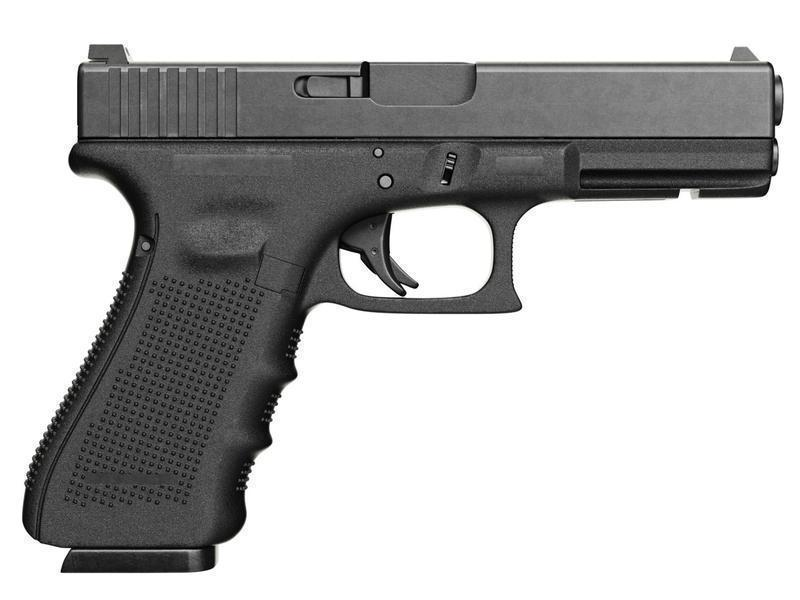GUN: (21, 40, 791, 580)
